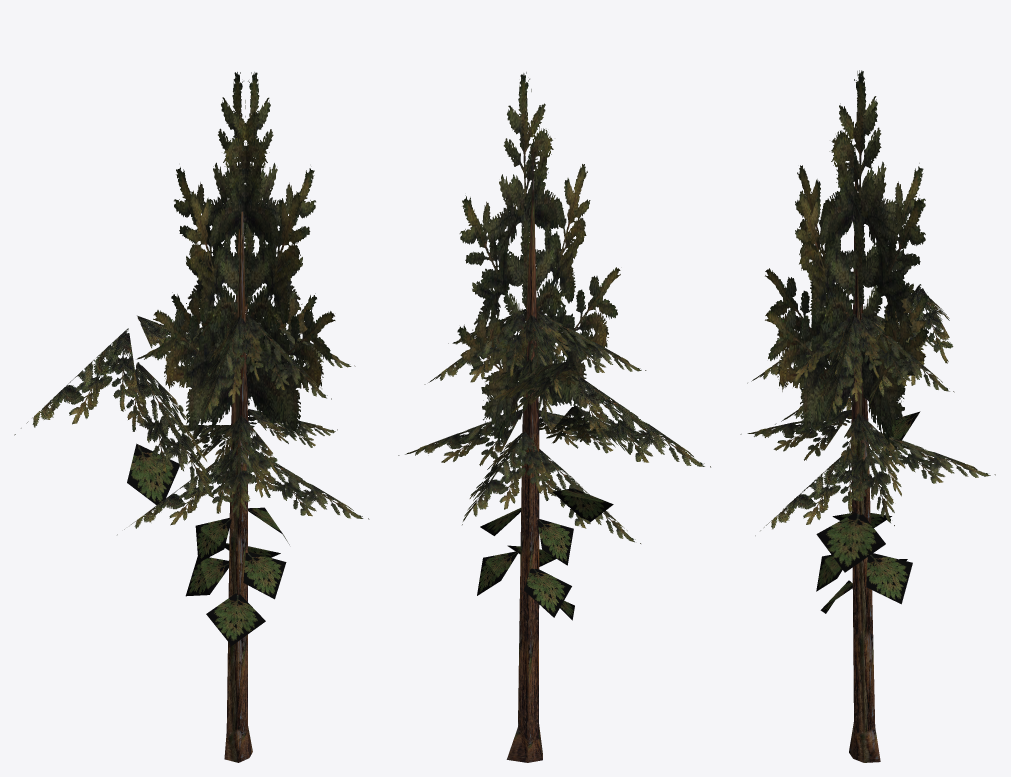
File: veg_largefurs03.obj
3 views of the same model, side by side, from view 1: azimuth 30°, elevation 25°; view 2: azimuth 150°, elevation 25°; view 3: azimuth 270°, elevation 25° (orthographic).
Visible parts, largest first — view 1: veg_largefurs03; view 2: veg_largefurs03; view 3: veg_largefurs03.
Part boxes in pixels (x1=…): veg_largefurs03: x1=14, y1=72, x2=369, y2=762; veg_largefurs03: x1=398, y1=72, x2=710, y2=762; veg_largefurs03: x1=740, y1=70, x2=995, y2=762.
Size of the model in its own units: 45.82 by 94.88 by 31.82.
3 materials, 3 textured.
